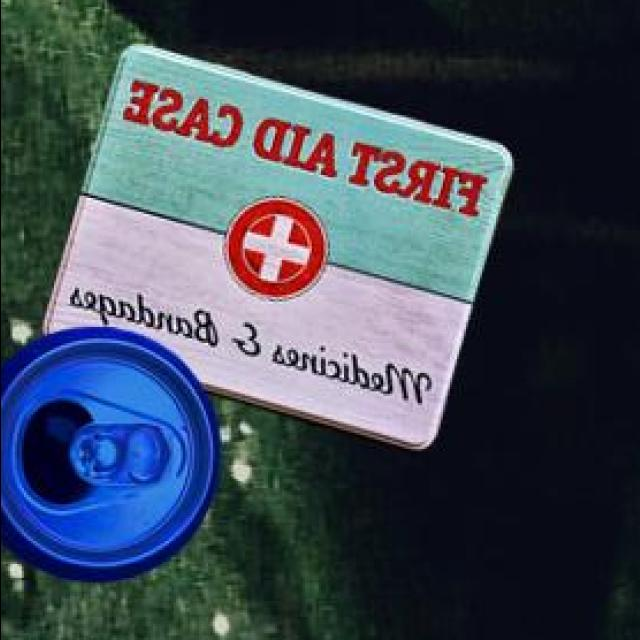logam: (45, 47, 515, 455), (0, 330, 222, 586)
